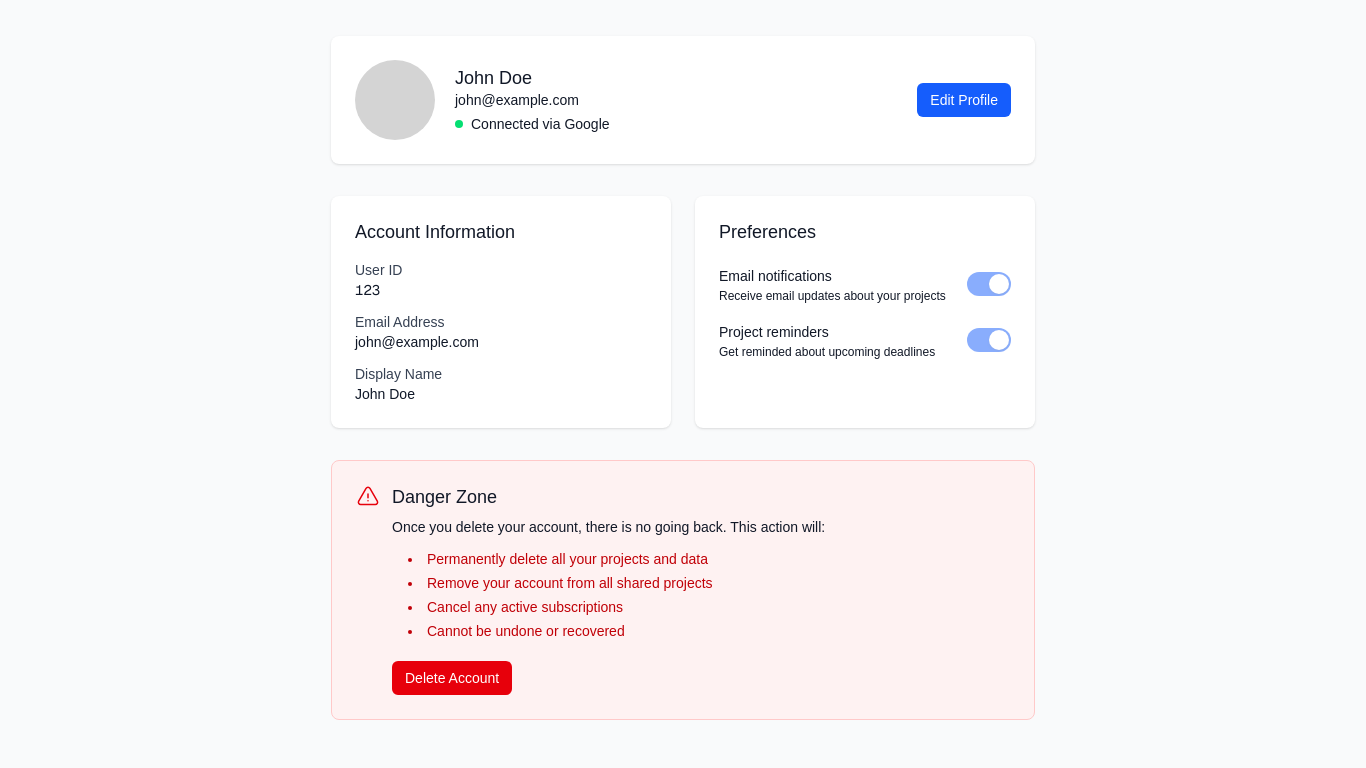
Test: Profile Page › cancels account deletion
(page scrolled)
Note: Open confirmation modal
Click the button "Delete Account".
click(452, 678)  # box [392,661,512,695]
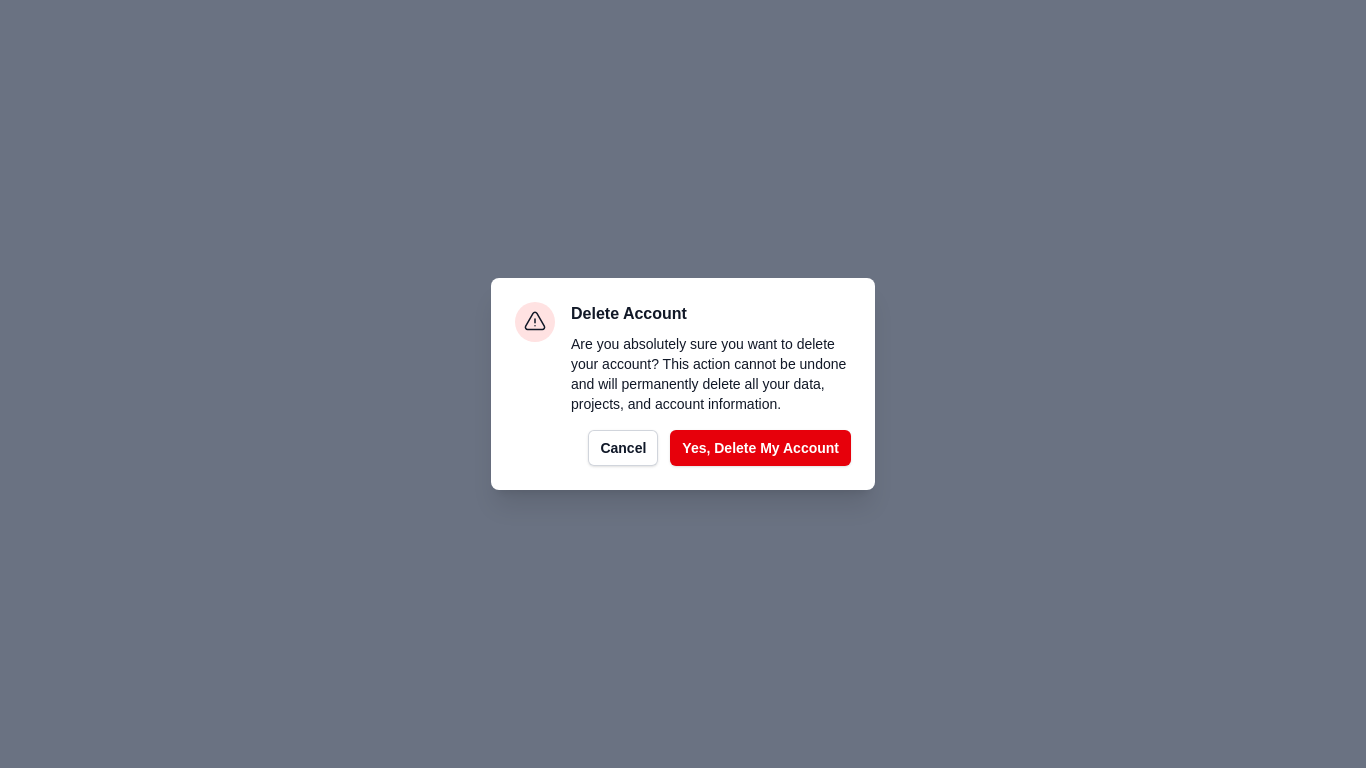
Note: Cancel deletion
Click the button "Cancel".
click(623, 448)  # box [588,430,658,466]
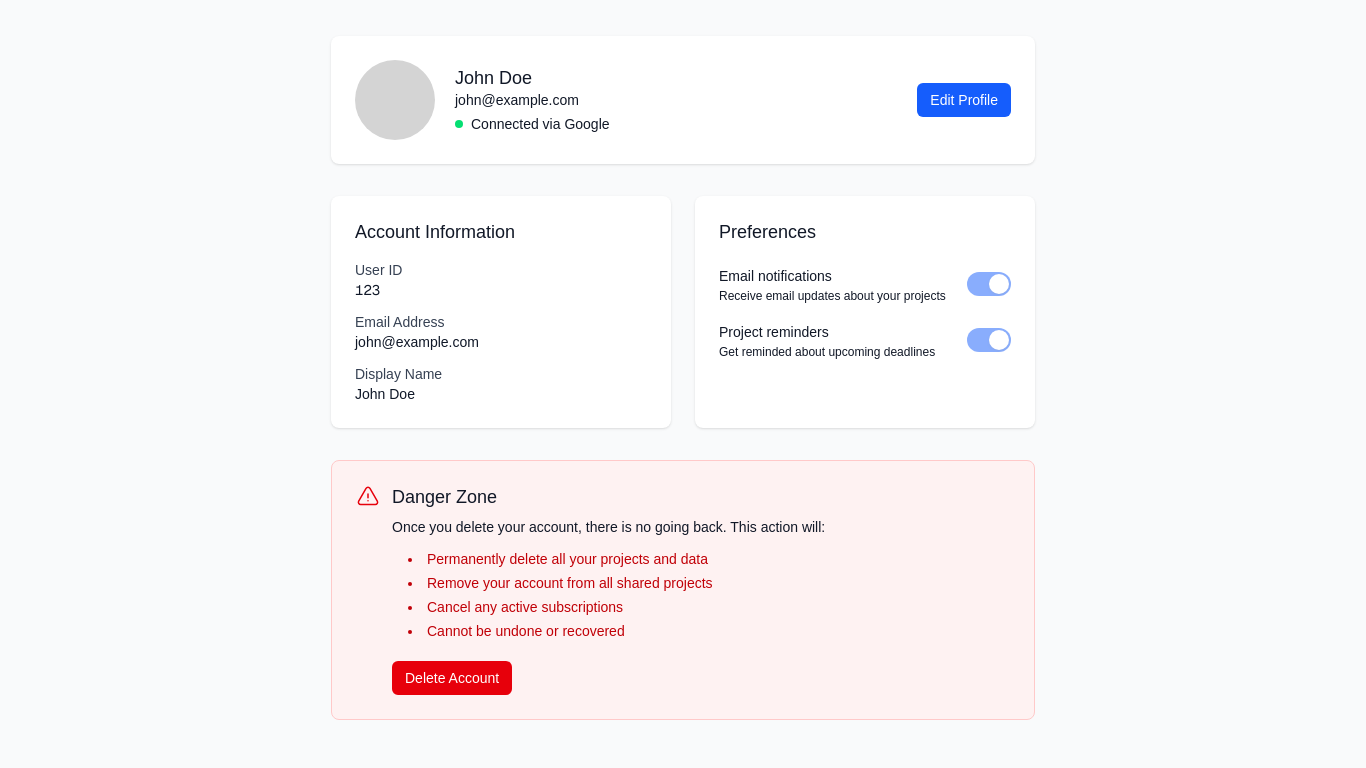
Expected: the text "Are you absolutely sure you want to delete your account?" is gone
